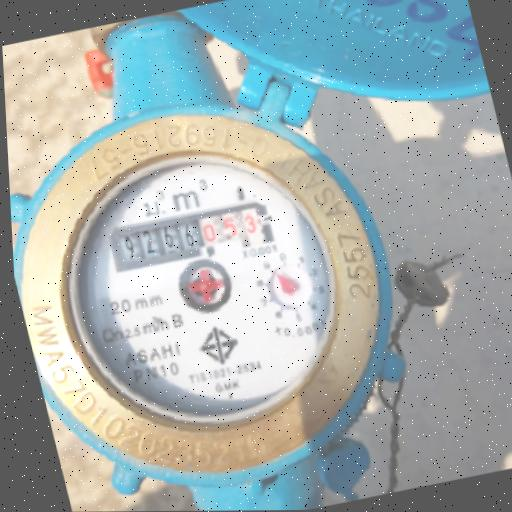0: (198, 215, 221, 247)
2: (138, 228, 159, 260)
3: (240, 206, 265, 247)
5: (219, 211, 241, 242)
6: (177, 221, 198, 253), (159, 224, 179, 256)
9: (119, 233, 139, 265)
border_water_meter_number: (105, 198, 276, 274)
